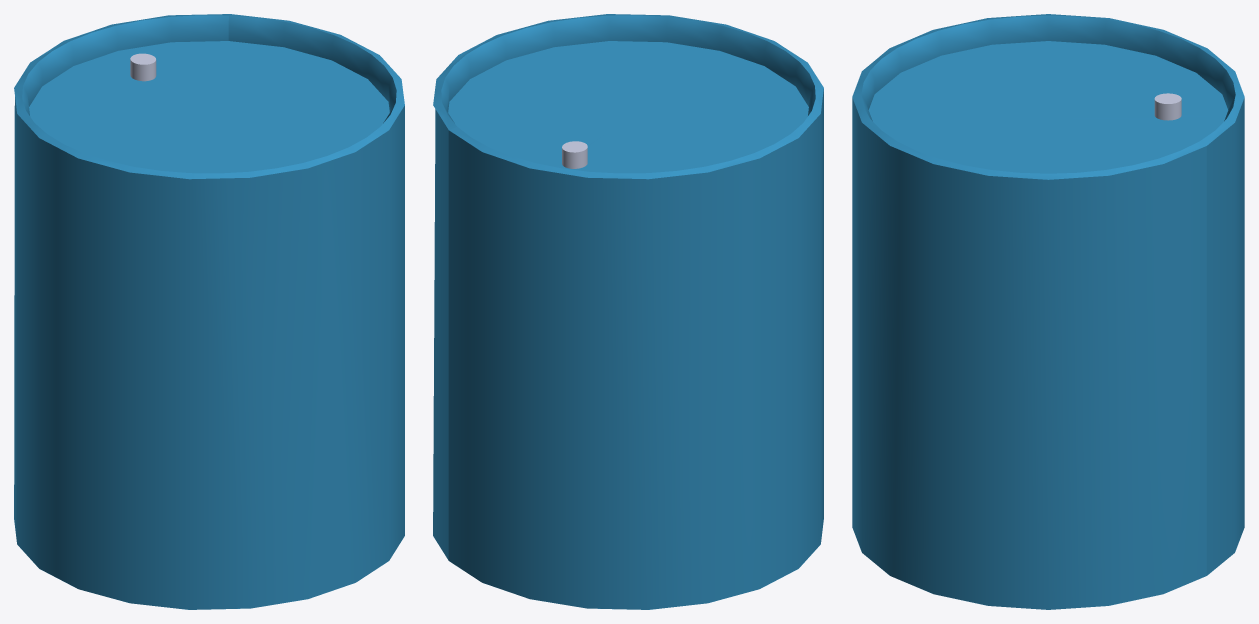
3 views of the same model, side by side, from view 1: azimuth 30°, elevation 25°; view 2: azimuth 150°, elevation 25°; view 3: azimuth 270°, elevation 25° (orthographic).
Visible parts, largest first — view 1: split_parent_1, defaultMaterial; view 2: split_parent_1, defaultMaterial; view 3: split_parent_1, defaultMaterial.
Boxes of the visible parts, x1=… form: split_parent_1: x1=14, y1=14, x2=404, y2=609; defaultMaterial: x1=130, y1=53, x2=156, y2=81; split_parent_1: x1=433, y1=14, x2=823, y2=609; defaultMaterial: x1=562, y1=141, x2=587, y2=168; split_parent_1: x1=852, y1=14, x2=1244, y2=609; defaultMaterial: x1=1154, y1=93, x2=1181, y2=120.
Bounding box in the file's own units: 0.8228 × 1 × 0.8226.
